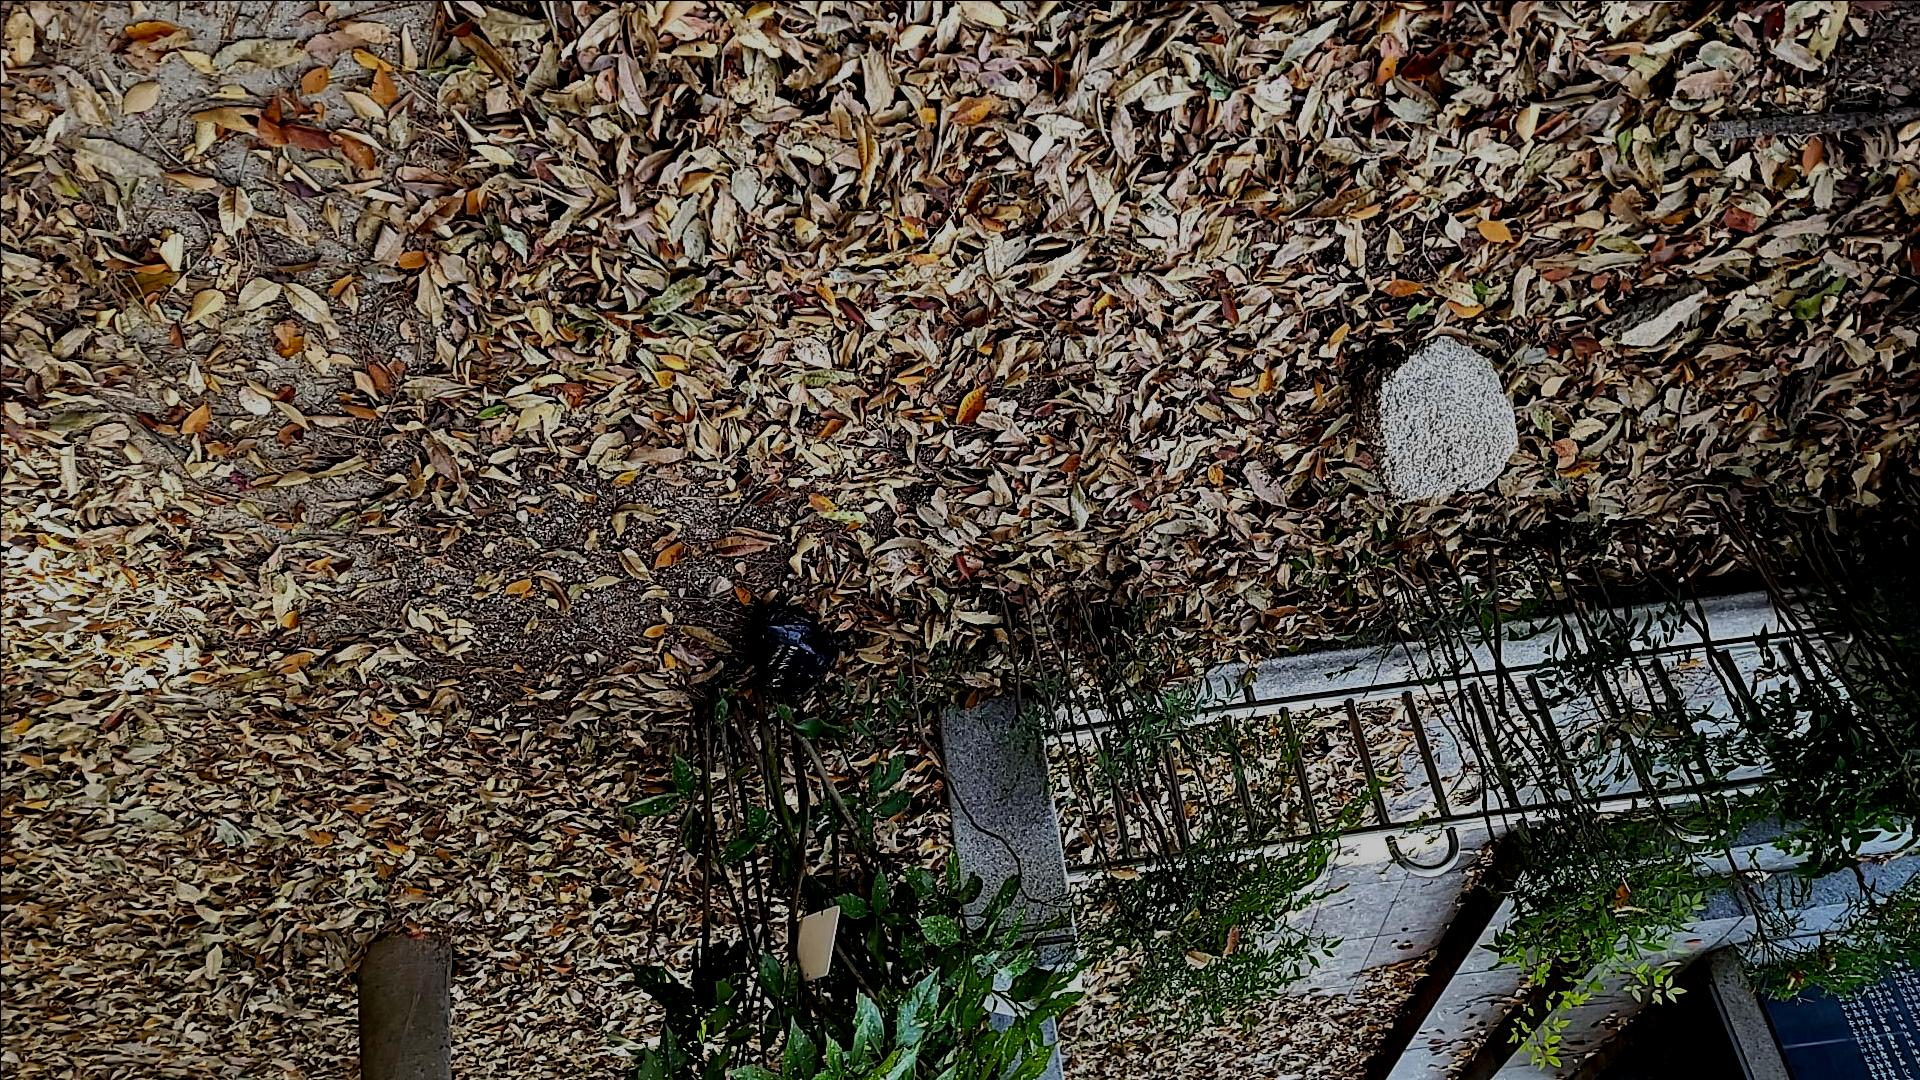black_bag: (737, 600, 847, 707)
